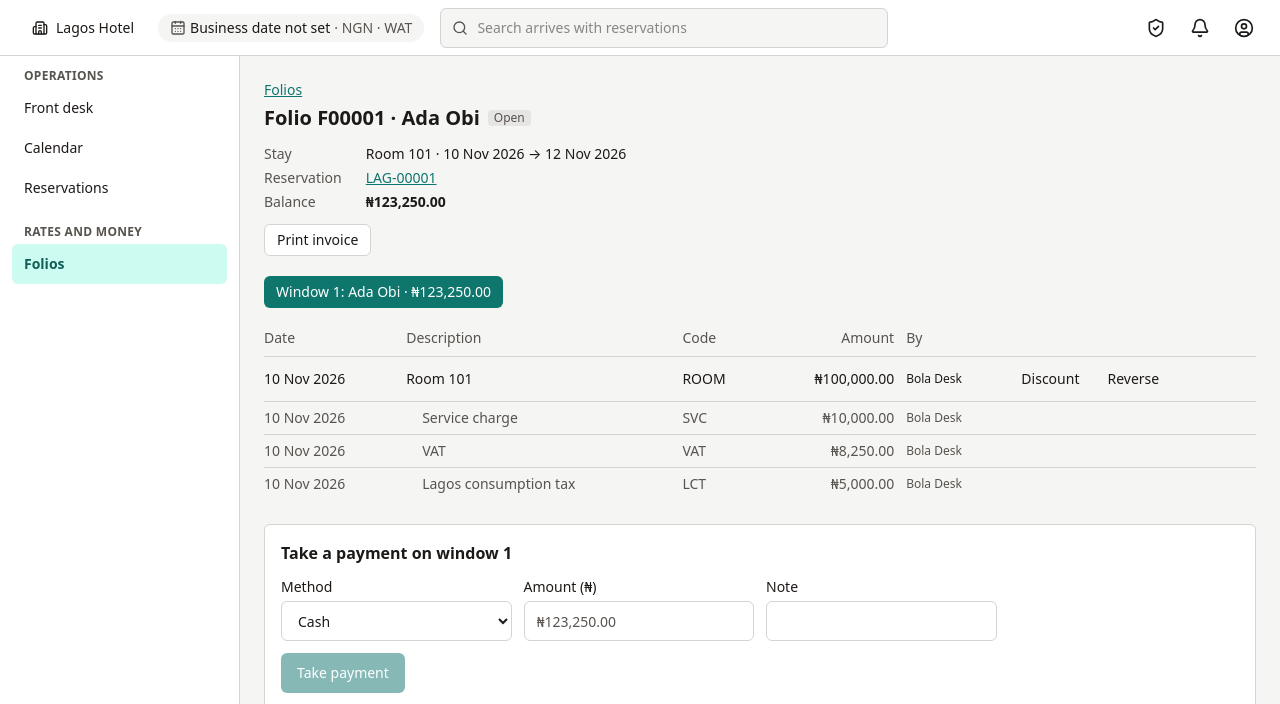
Test: Folios (S11) › reverses with a reason, and says when a discount went to a manager
Click the button with aria-label "Reverse Room 101": (1133, 379) [1096,363,1171,395]
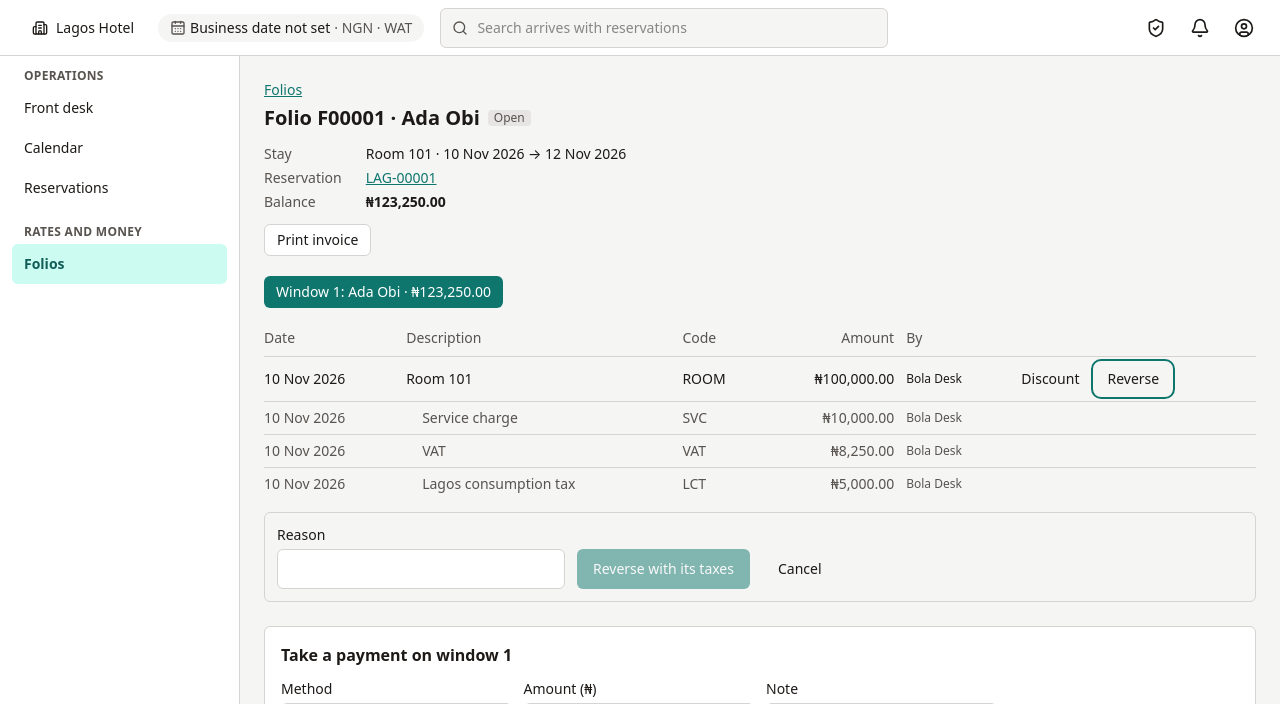
In the field labelled "Reason": (421, 569) [277,549,565,589], type "Wrong room"
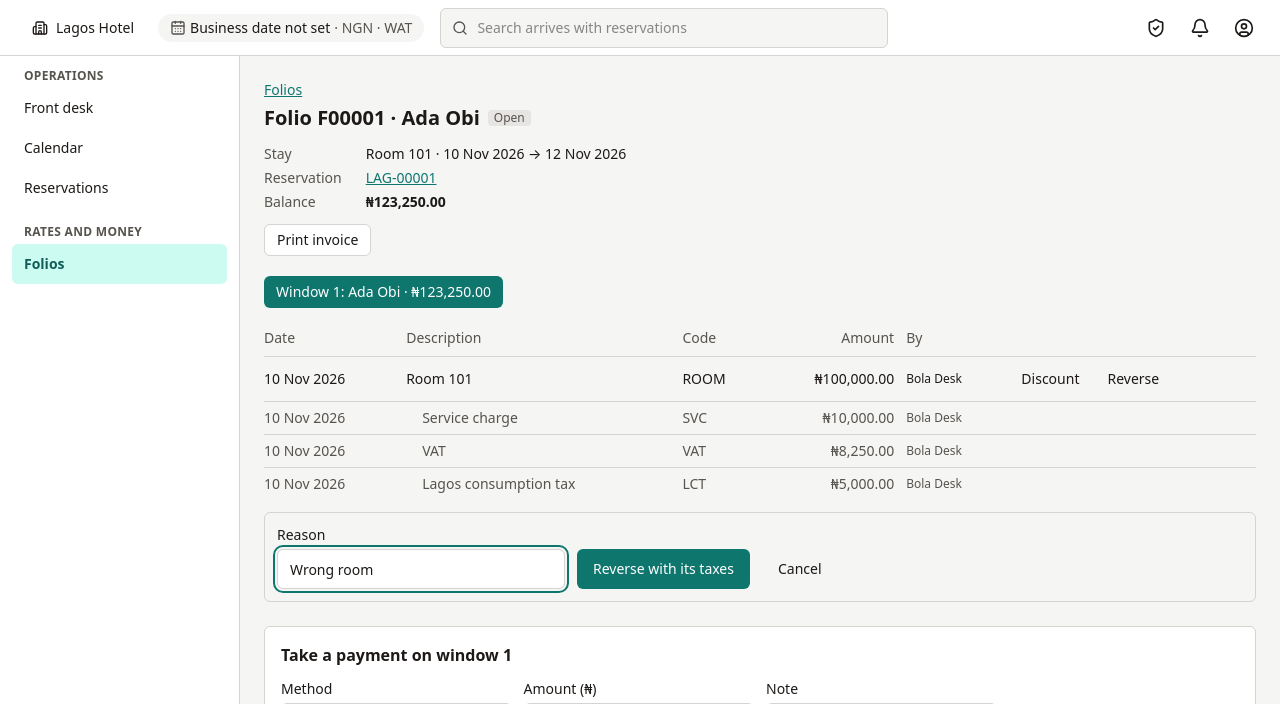
Click the button "Reverse with its taxes": (664, 569) [577,549,750,589]
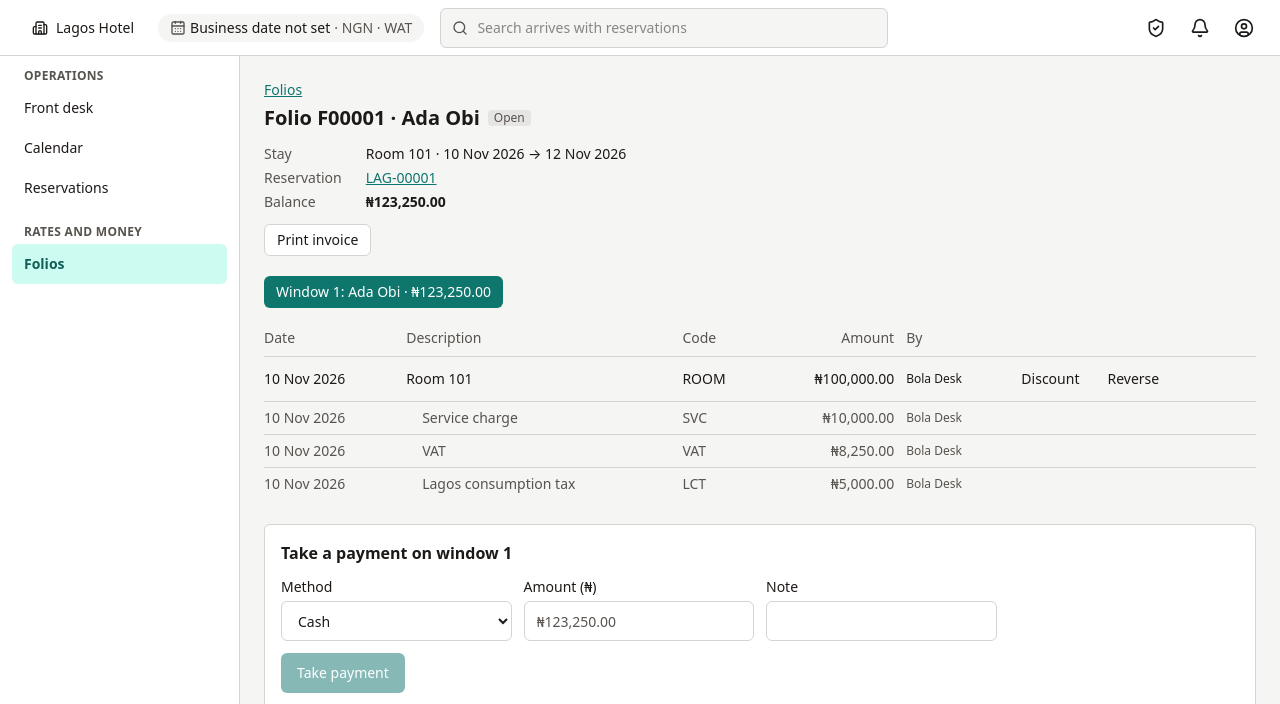
Click the button with aria-label "Discount Room 101": (1050, 379) [1009,363,1092,395]
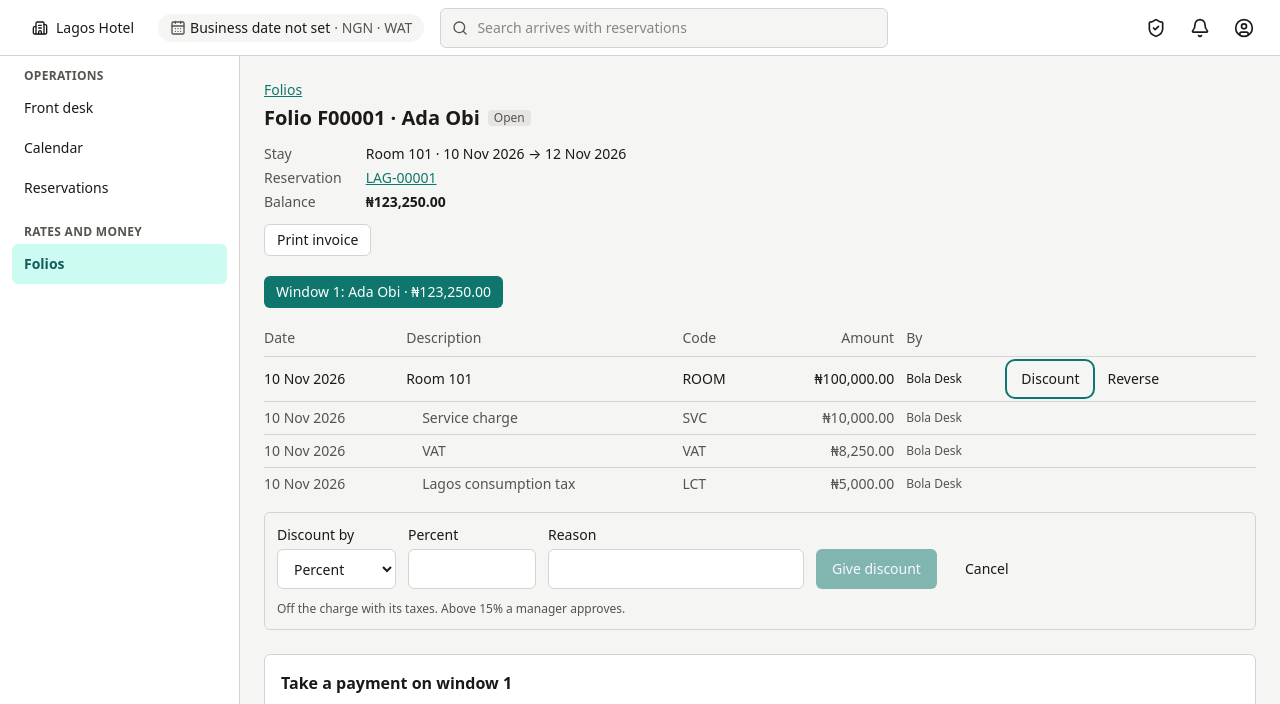
In the field labelled "Percent": (472, 569) [408,549,536,589], type "20"
In the field labelled "Reason": (676, 569) [548,549,804,589], type "Complaint"
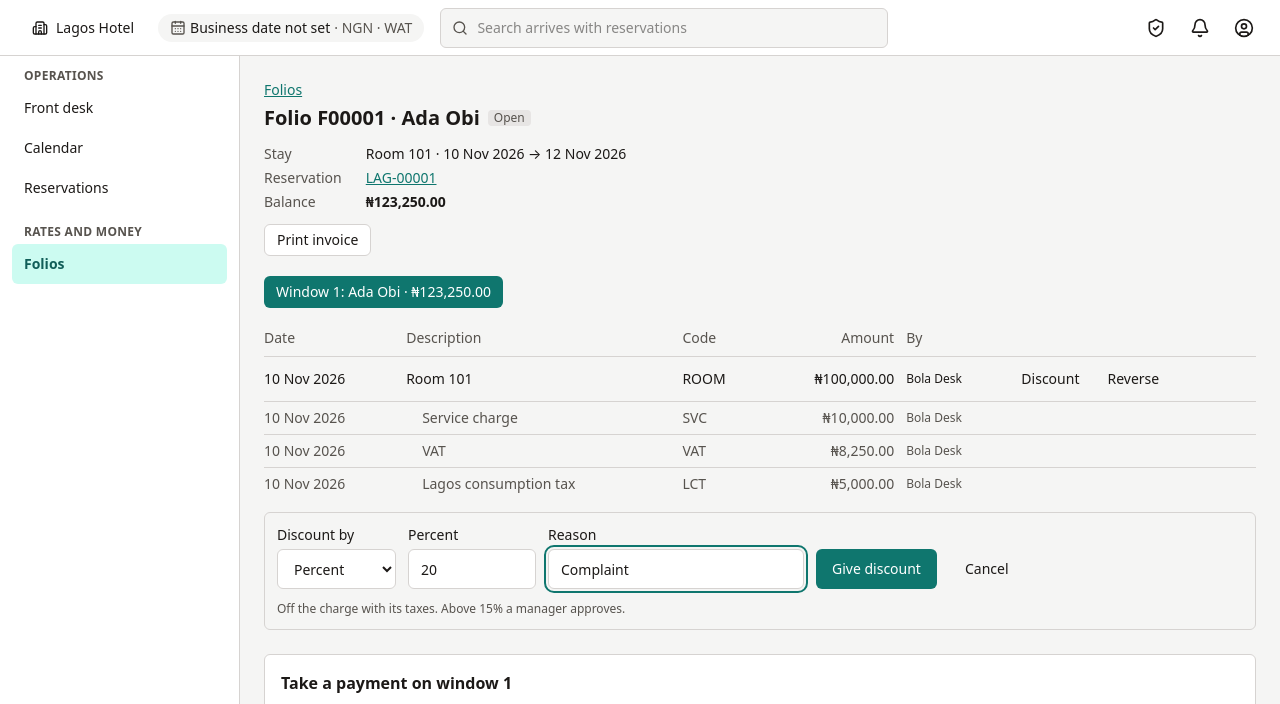
Click the button "Give discount": (876, 569) [816,549,937,589]
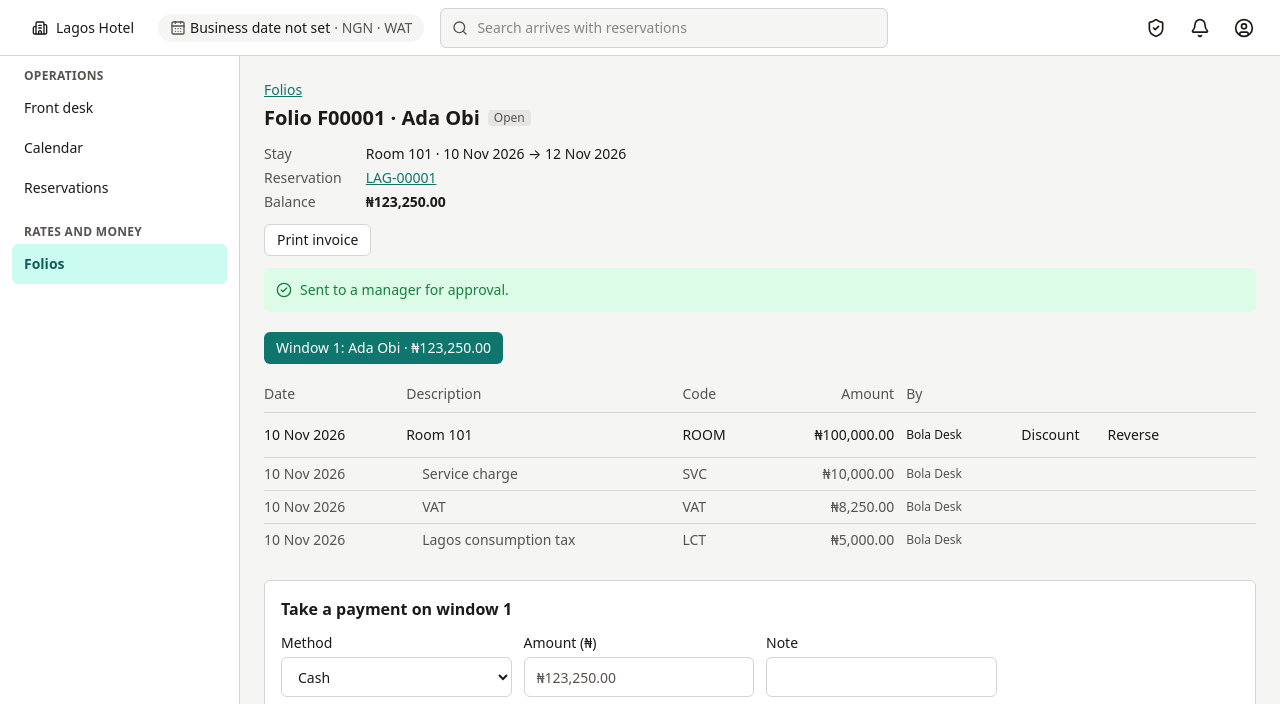
Check: the text "Sent to a manager for approval." is shown, box [300,280,509,299]
